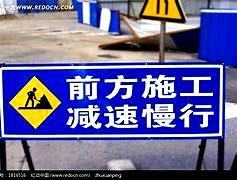sign: (1, 65, 222, 138)
